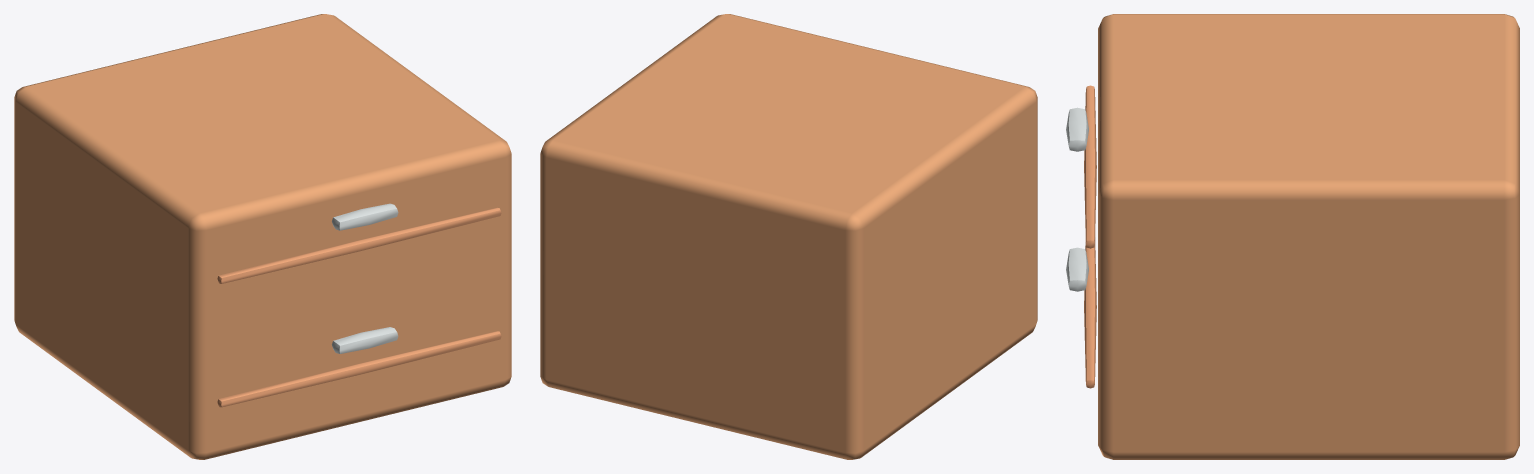
File: storage-cube.glb
3 views of the same model, side by side, from view 1: azimuth 30°, elevation 25°; view 2: azimuth 150°, elevation 25°; view 3: azimuth 270°, elevation 25° (orthographic). The views are drawn at different scales.
Visible parts, largest first — view 1: part (×5); view 2: part; view 3: part (×5).
Boxes of the visible parts, x1,y1,x2,y2 form: part (×5): (14,14,511,459); part: (540,14,1037,459); part (×5): (1066,14,1519,459).
Size of the model in its own units: 0.82 by 0.6 by 0.8825.
1 material, 1 textured.
